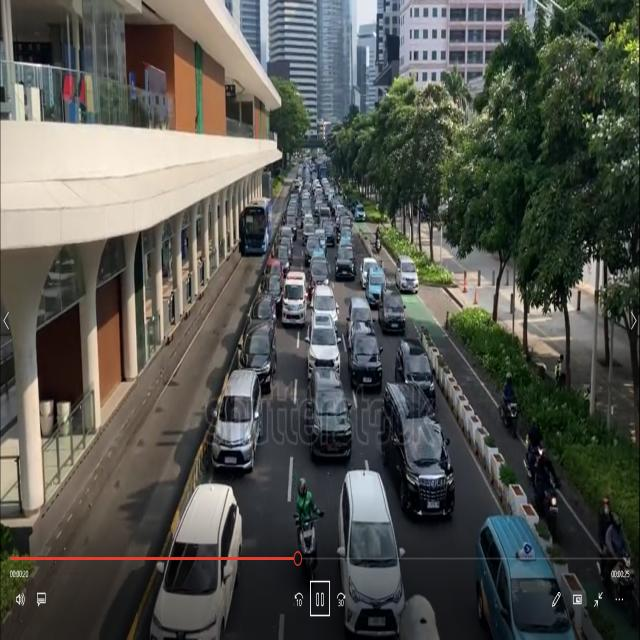Ambulance: (284, 271, 310, 337)
